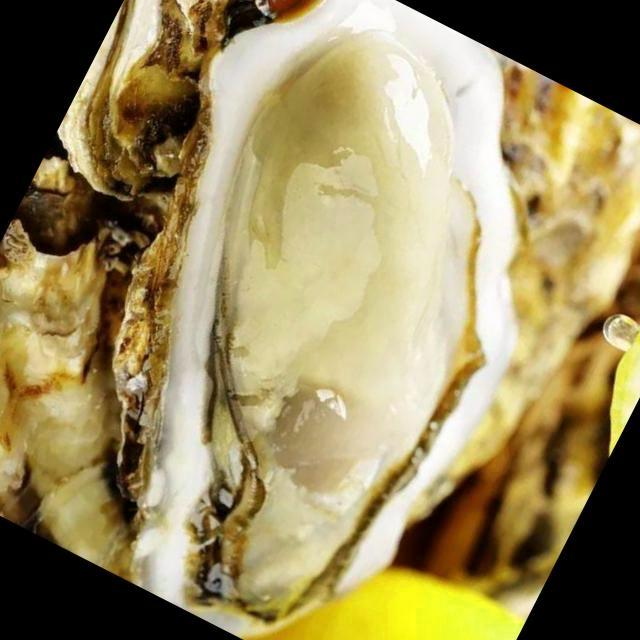Oyster-Open: (114, 0, 524, 638)
